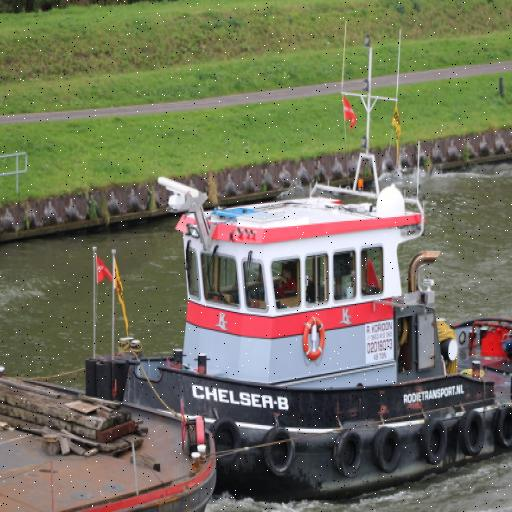tugboat: (83, 150, 512, 512)
